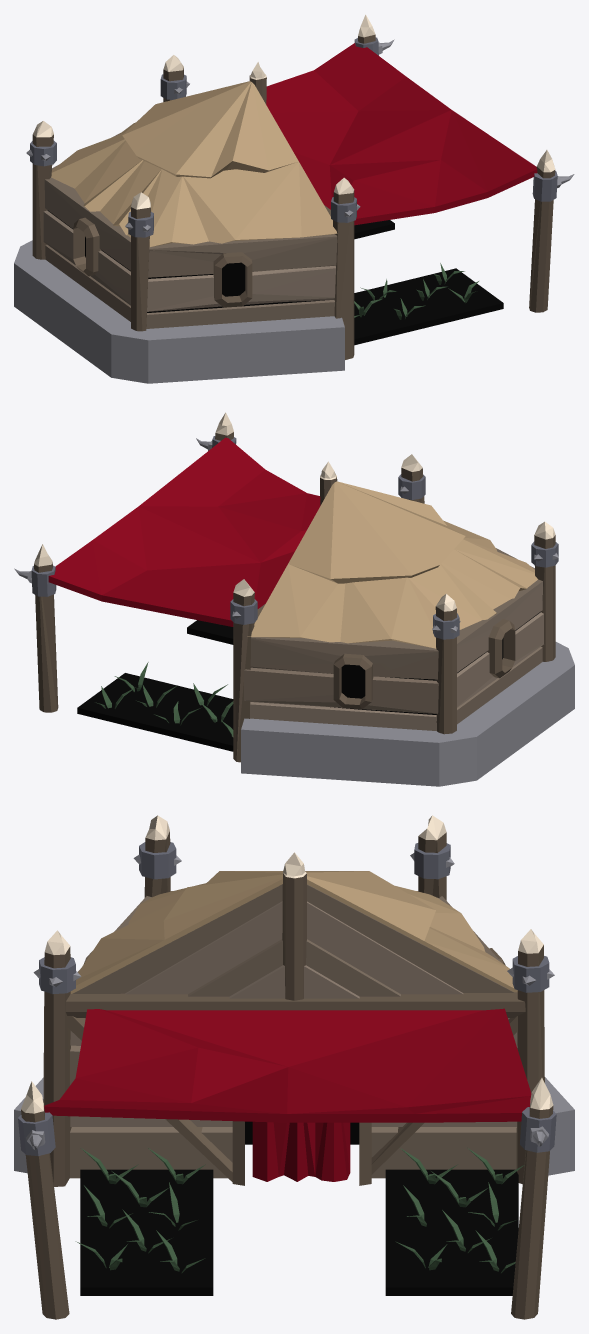
The model's file is herbalist_hut.fbx.
The picture shows the model from 3 angles, top to bottom: view 1: azimuth 30°, elevation 25°; view 2: azimuth 150°, elevation 25°; view 3: azimuth 270°, elevation 25°; orthographic projection. The views are drawn at different scales.
Visible parts, largest first — view 1: herbalist_hut; view 2: herbalist_hut; view 3: herbalist_hut.
Part boxes in pixels (x1,y1,x2,y2): herbalist_hut: (14,14,574,383); herbalist_hut: (14,412,574,786); herbalist_hut: (14,815,574,1319).
Bounding box in the file's own units: 1411 × 748 × 1161.
